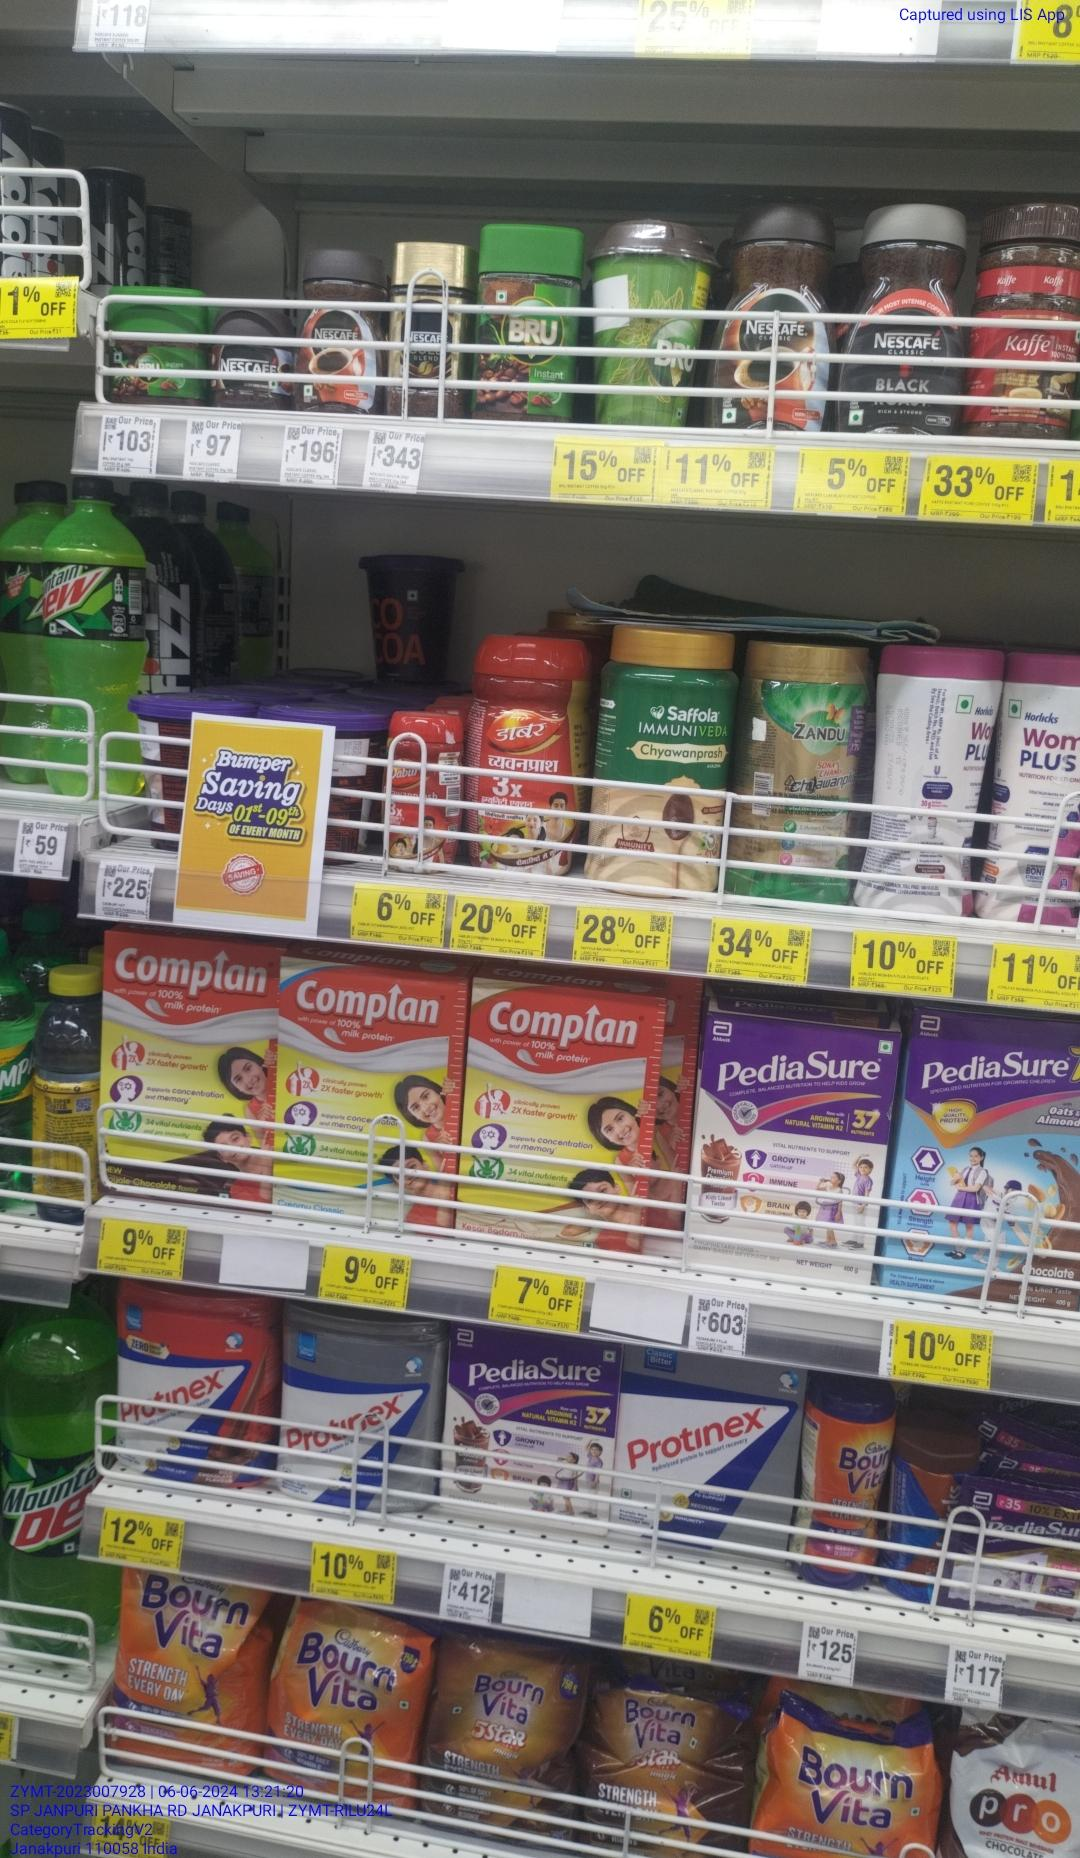BOURN_VITA_200_G_JAR: (809, 1387, 887, 1597)
BOURN_VITA_FIVE_STAR_MAGIC_750_G_POUCH: (433, 1634, 570, 1850), (593, 1674, 729, 1858)
COMPLAN_CREAMY_CLASSIC_500_G_PACK: (279, 959, 453, 1236)
PEDIASURE_7_PLUS_CHOCOLATE_400_G_PACK: (900, 1033, 1080, 1304)
PROTINEX_CHOCOLATE_400_G_JAR: (114, 1287, 270, 1490)
PROTINEX_ORIGINAL_400_G_JAR: (275, 1305, 433, 1516)
